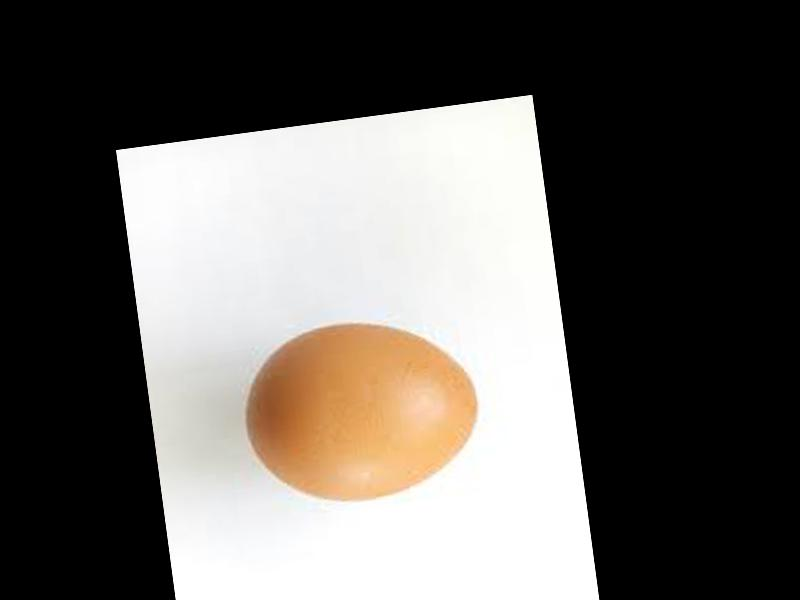Eggs: (232, 305, 491, 512)
